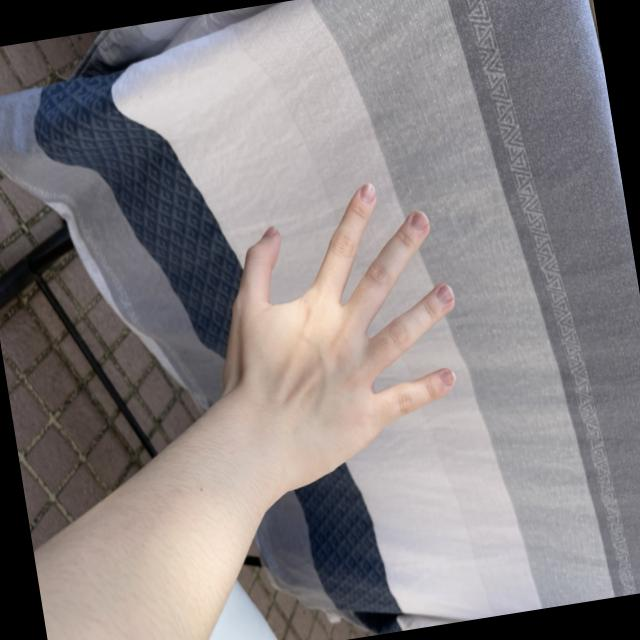Nail: (411, 212, 428, 231), (360, 184, 375, 205), (437, 286, 452, 303), (440, 371, 455, 386), (263, 226, 275, 238)
